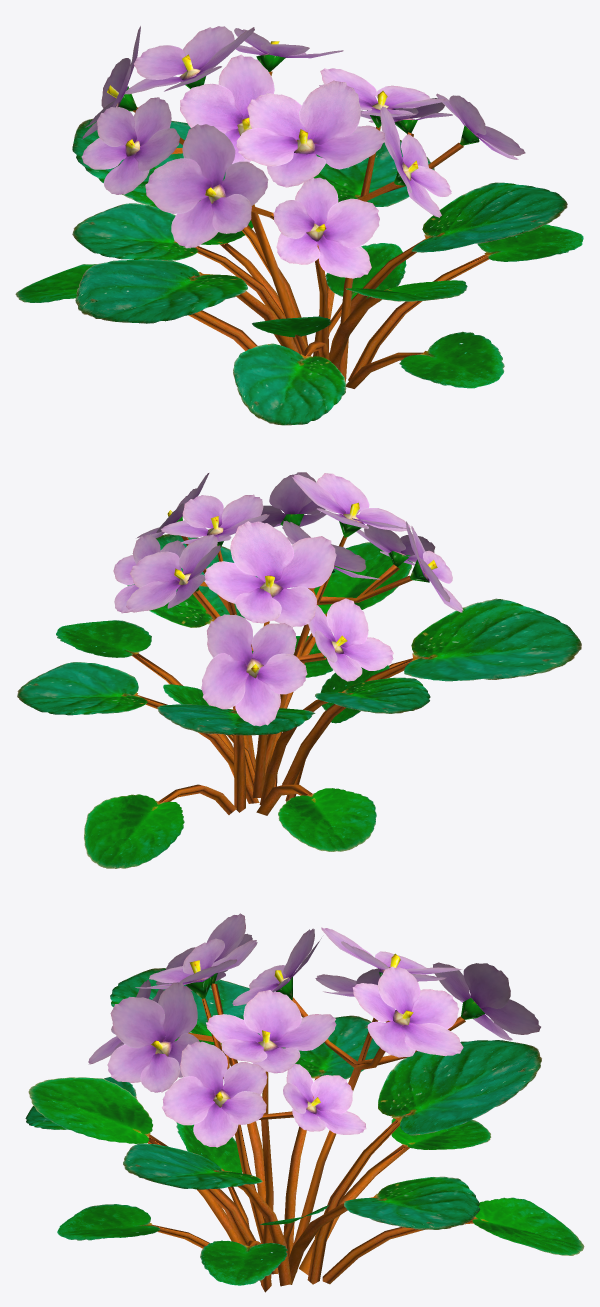
File: Saintpaulia2A.fbx
The picture shows the model from 3 angles, top to bottom: view 1: azimuth 30°, elevation 25°; view 2: azimuth 150°, elevation 25°; view 3: azimuth 270°, elevation 25°; orthographic projection. The views are drawn at different scales.
Visible parts, largest first — view 1: Sainpaulia2A_LOD0; view 2: Sainpaulia2A_LOD0; view 3: Sainpaulia2A_LOD0.
Boxes of the visible parts, <box> form: Sainpaulia2A_LOD0: <box>15,26,583,425</box>; Sainpaulia2A_LOD0: <box>17,472,581,868</box>; Sainpaulia2A_LOD0: <box>25,913,584,1292</box>.
Size of what is drawn, in the model's own units: 71.05 by 45.15 by 68.54.
